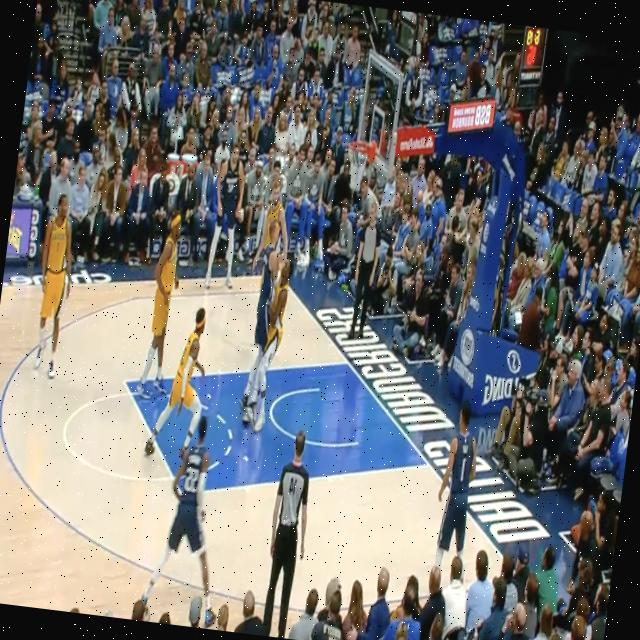Foul: (231, 235, 302, 438)
